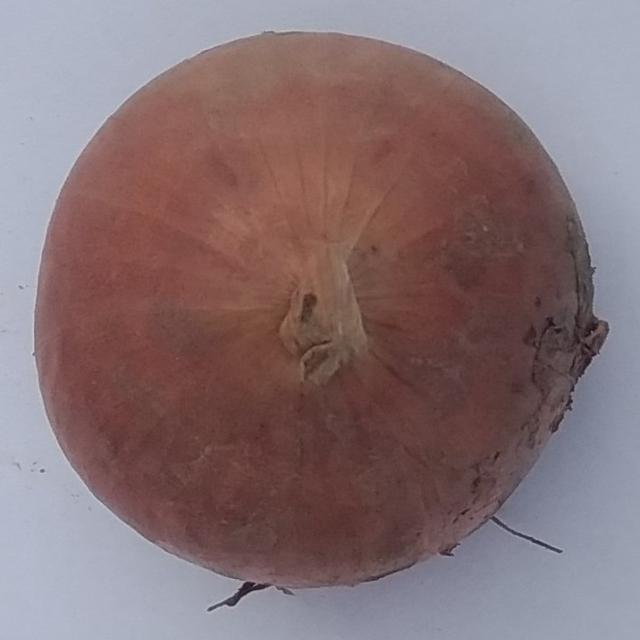onion: (32, 30, 610, 613)
